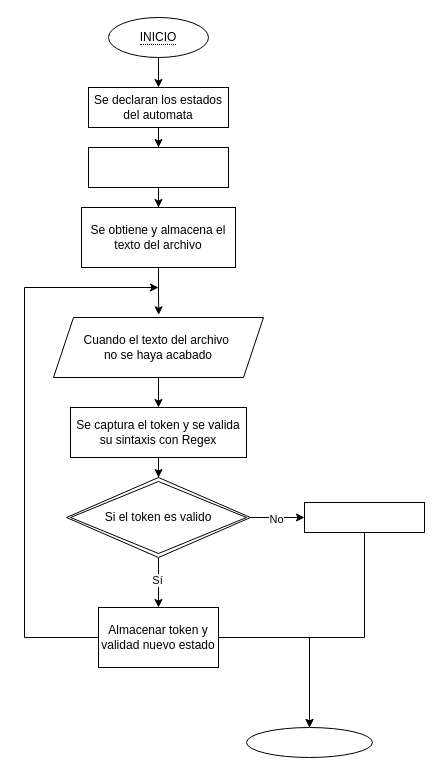
This 442x775 diagram has some shape labels left out. Each missing label, with the centre of its shape:
"FIN" belongs at (309,742).
"Lanzar excepción" belongs at (364,517).
"Se declara arreglo de tokens a capturar" belongs at (158,167).
